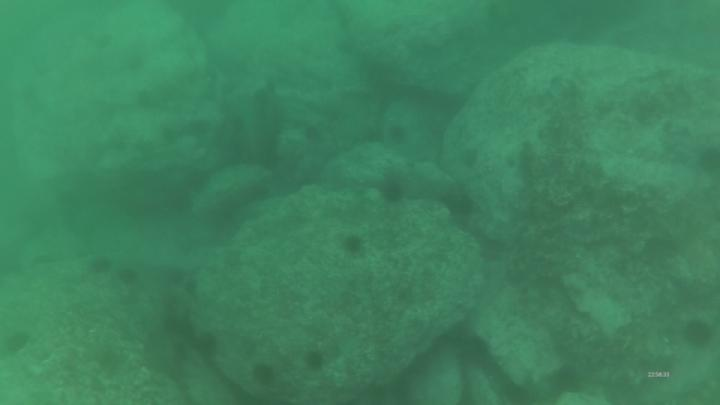echinus: (445, 189, 478, 219), (686, 321, 710, 343), (381, 185, 405, 203), (250, 366, 272, 385), (93, 256, 109, 273), (304, 354, 322, 369), (346, 236, 361, 251), (122, 272, 137, 283)
